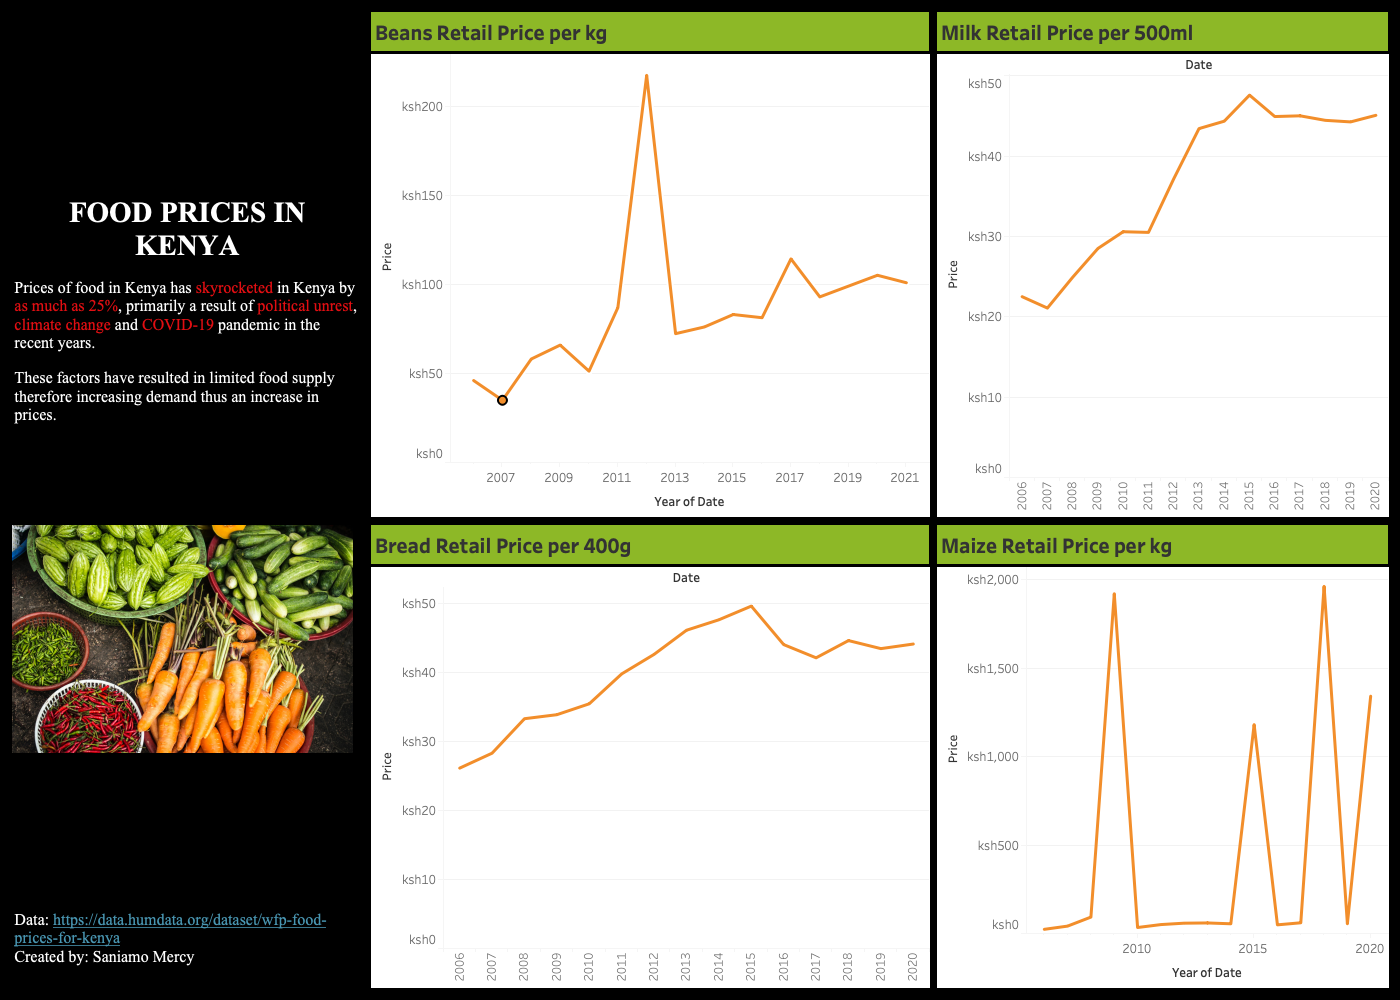

The dashboard page shown, as its layout file describes it:
{"tool":"tableau","page":{"name":"FOOD PRICES IN KENYA","canvas":[1400,1000],"ordinal":0},"visuals":[{"type":"text","box":[8,8,359,513]},{"type":"worksheet","title":"Beans Retail Price per kg","mark":"Automatic","rows":["price"],"cols":["date"],"box":[367,8,566.5,513]},{"type":"worksheet","title":"Milk Retail Price per 500ml ","mark":"Automatic","rows":["price"],"cols":["date"],"box":[933.5,8,458.5,513]},{"type":"image","param":"/Users/saniamo/Downloads/megan-thomas-xMh_ww8HN_Q-unsplash.jpg","box":[8,521,359,235.5]},{"type":"worksheet","title":"Bread Retail Price per 400g","mark":"Automatic","rows":["price"],"cols":["date"],"box":[367,521,566,471]},{"type":"worksheet","title":"Maize Retail Price per kg","mark":"Automatic","rows":["price"],"cols":["date"],"box":[933,521,459,471]},{"type":"text","box":[8,756.5,359,235.5]}]}

Visuals, with their boxes in screenshot pixels (x1, y1, x2, y2), scaled from the page's 1400x1000 canvas onto the 1400x1000 screenshot:
text: left=8, top=8, right=367, bottom=521
"Beans Retail Price per kg" worksheet: left=367, top=8, right=934, bottom=521
"Milk Retail Price per 500ml " worksheet: left=934, top=8, right=1392, bottom=521
image: left=8, top=521, right=367, bottom=756
"Bread Retail Price per 400g" worksheet: left=367, top=521, right=933, bottom=992
"Maize Retail Price per kg" worksheet: left=933, top=521, right=1392, bottom=992
text: left=8, top=756, right=367, bottom=992
